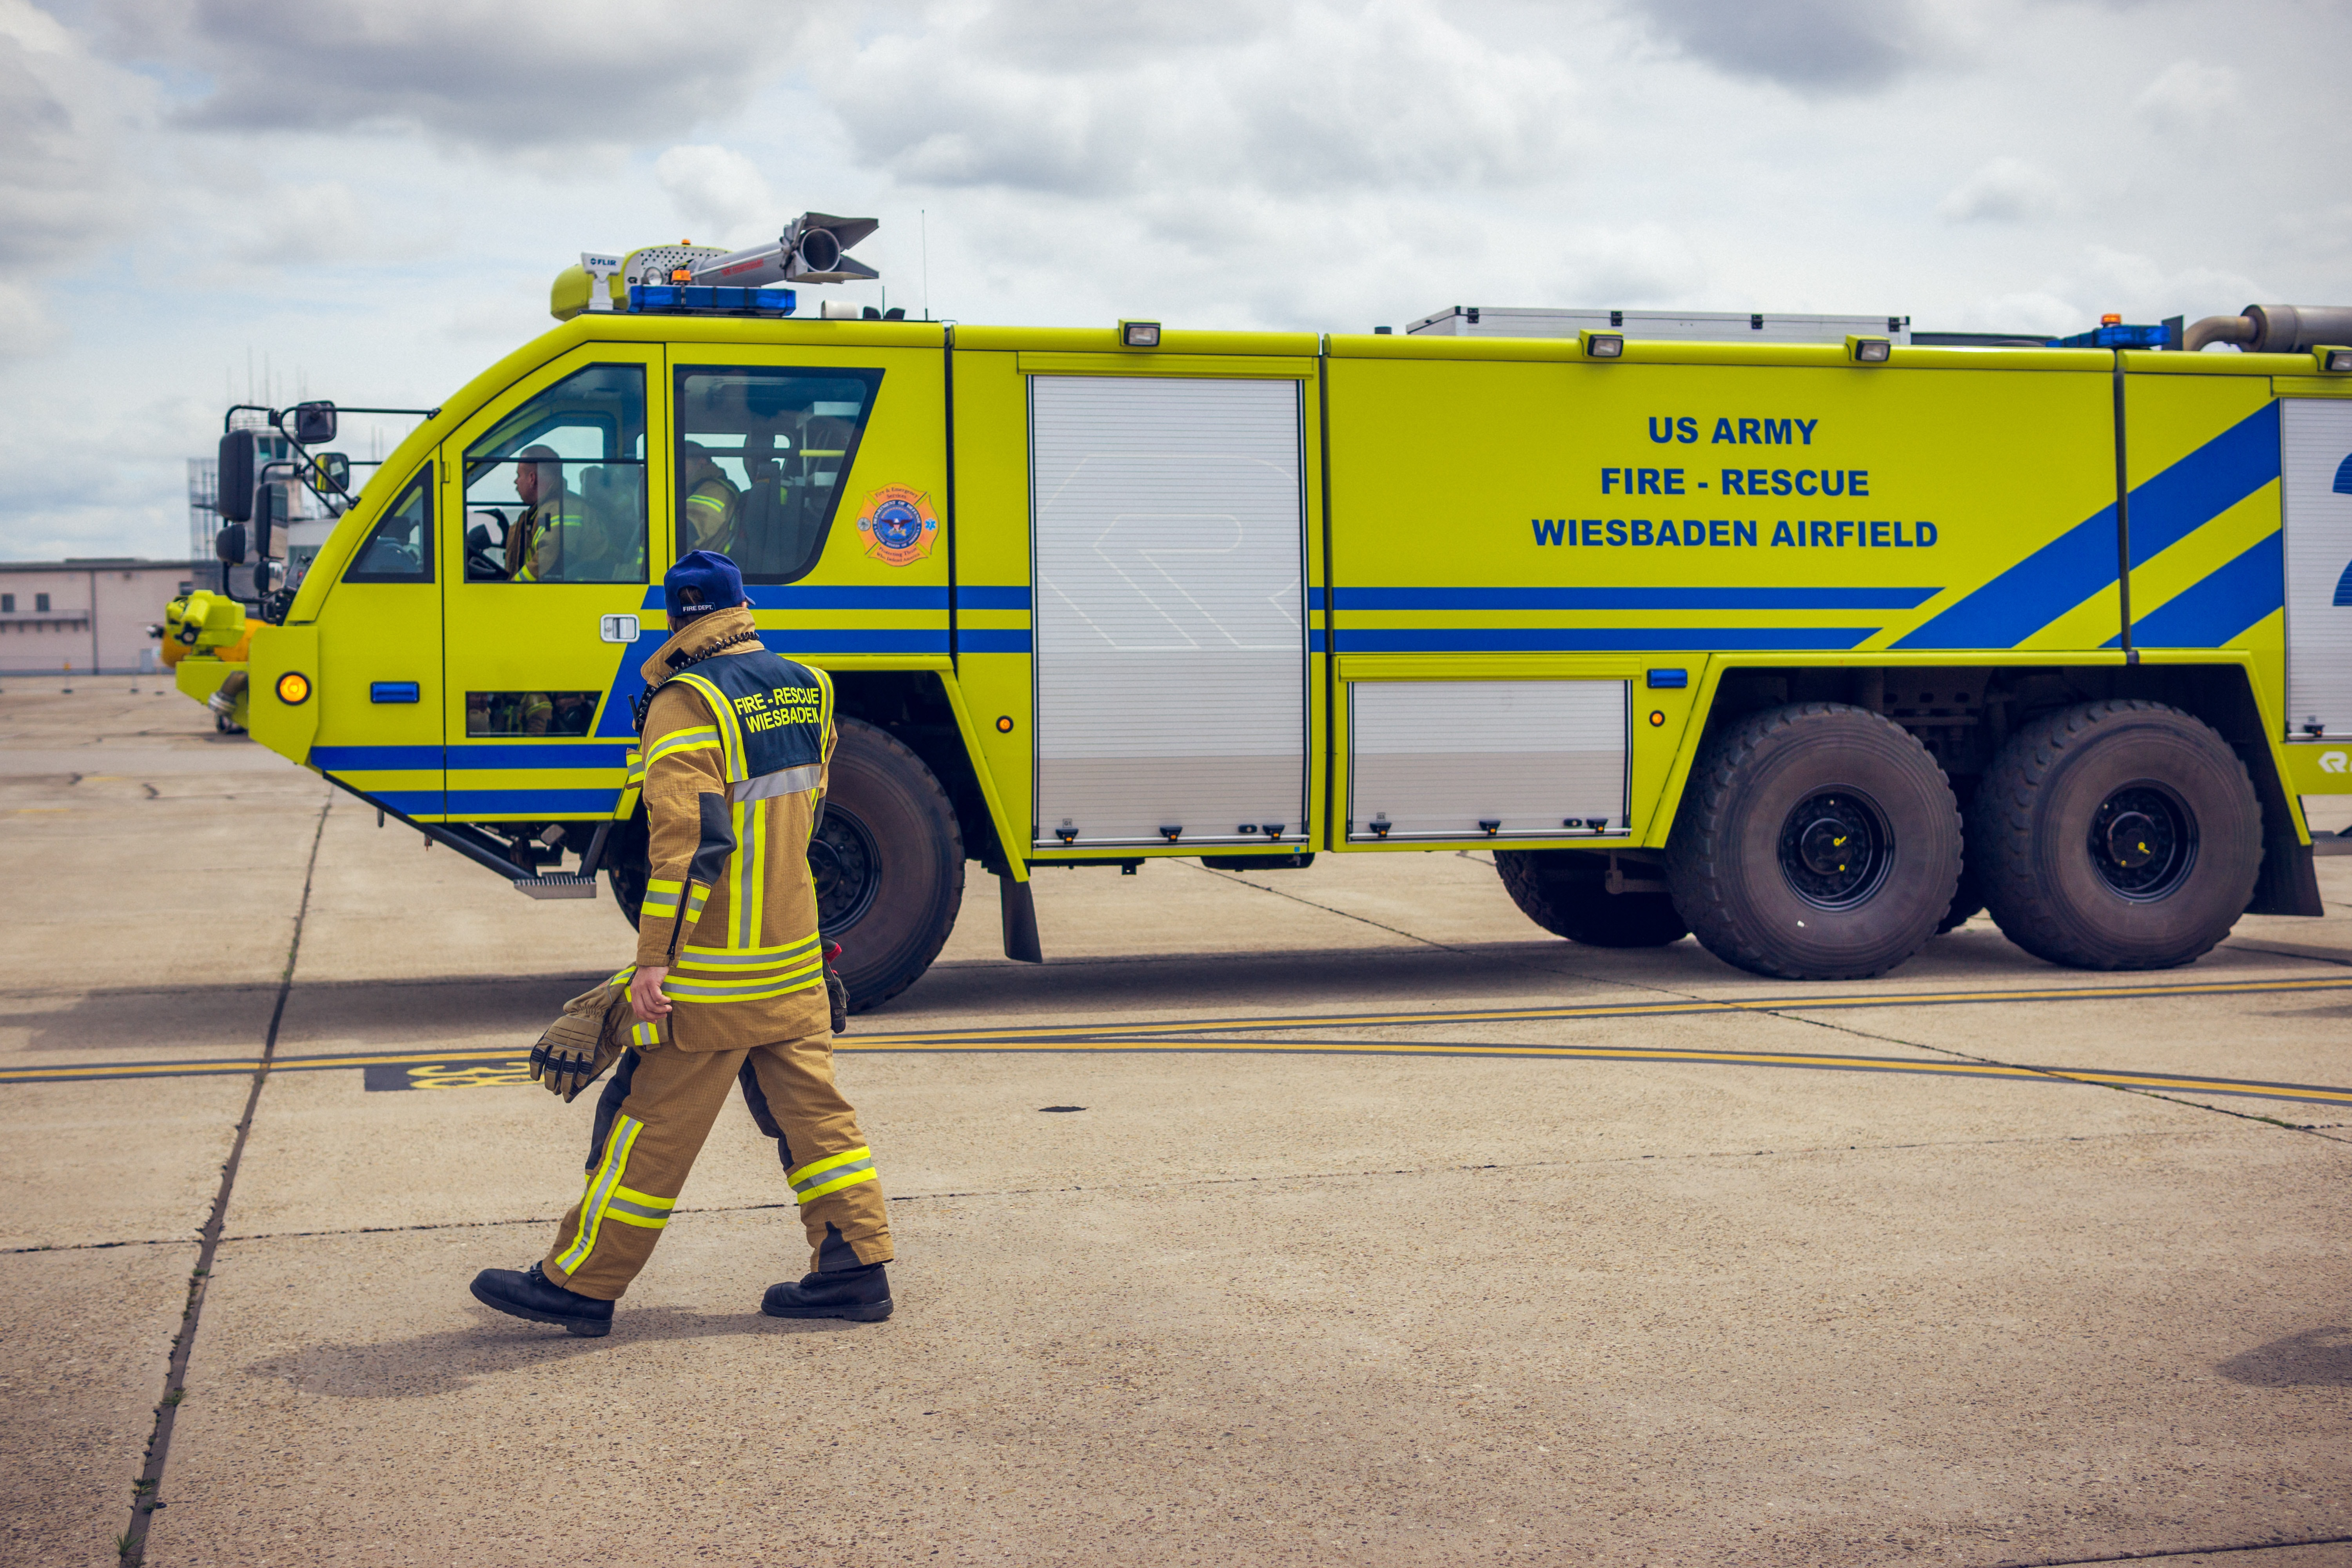emergent: (551, 562, 889, 1312)
